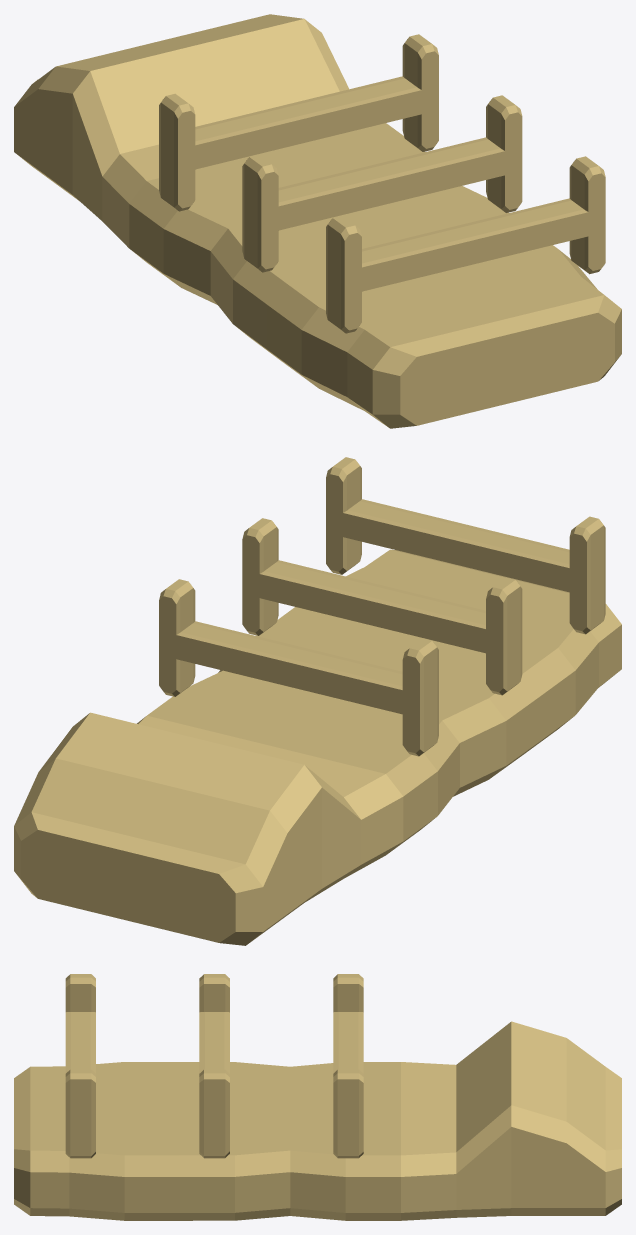
The model's file is tallow_transport_c.glb.
3 views of the same model, one above another, from view 1: azimuth 30°, elevation 25°; view 2: azimuth 150°, elevation 25°; view 3: azimuth 270°, elevation 25° (orthographic). The views are drawn at different scales.
Parts seen in each view (by area): view 1: tallow_transport_c; view 2: tallow_transport_c; view 3: tallow_transport_c.
Boxes of the visible parts, <box> form: tallow_transport_c: <box>14,14,621,428</box>; tallow_transport_c: <box>14,457,621,945</box>; tallow_transport_c: <box>14,974,621,1220</box>.
Bounding box in the file's own units: 3.8 × 2.48 × 9.1.
